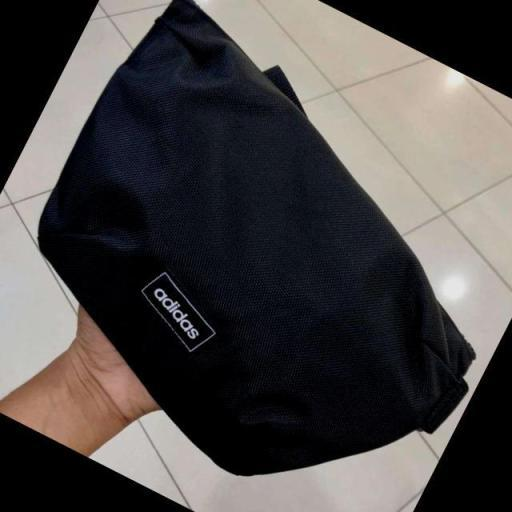bag: (40, 0, 482, 491)
